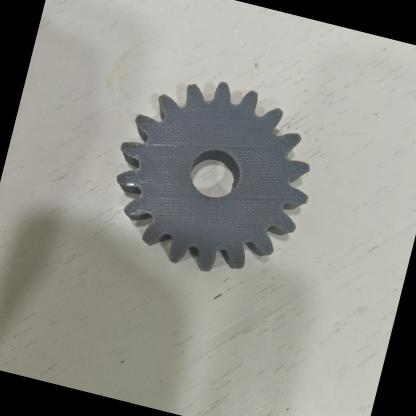gear: (84, 51, 349, 306)
